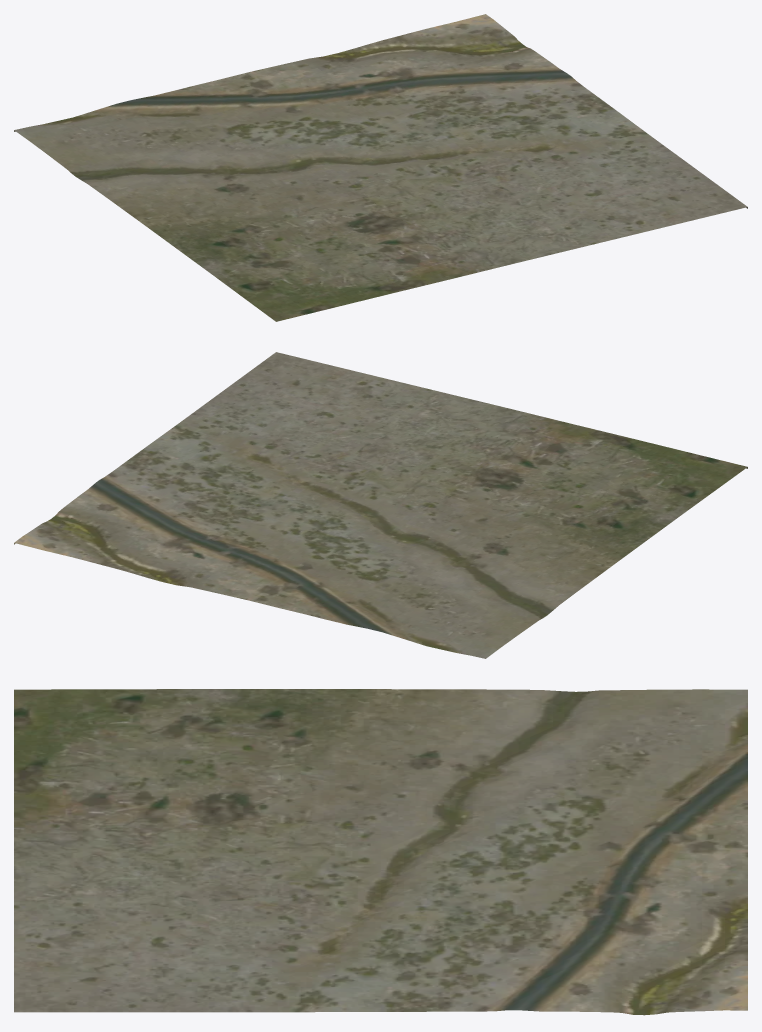
The picture shows the model from 3 angles, top to bottom: view 1: azimuth 30°, elevation 25°; view 2: azimuth 150°, elevation 25°; view 3: azimuth 270°, elevation 25°; orthographic projection. The views are drawn at different scales.
Size of the model in its own units: 250 by 2.88 by 241.
1 material, 1 textured.
